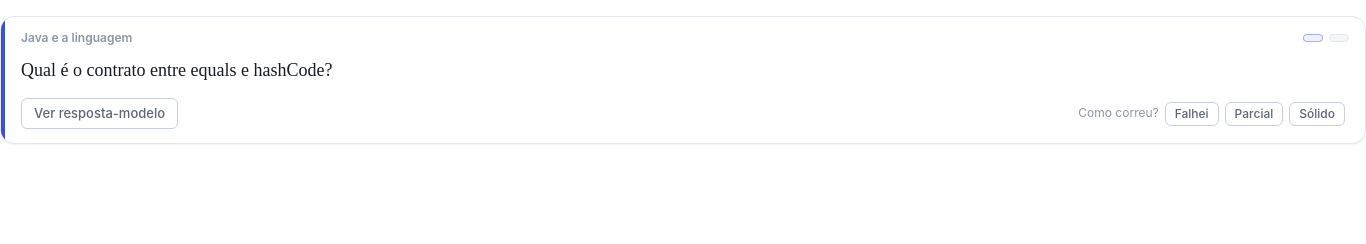
Test: QuestionCard › só mostra a resposta depois de revelar
Expected: the text "Resposta secreta" is not shown
Click the button "Ver resposta-modelo": (100,114) [21,98,178,129]
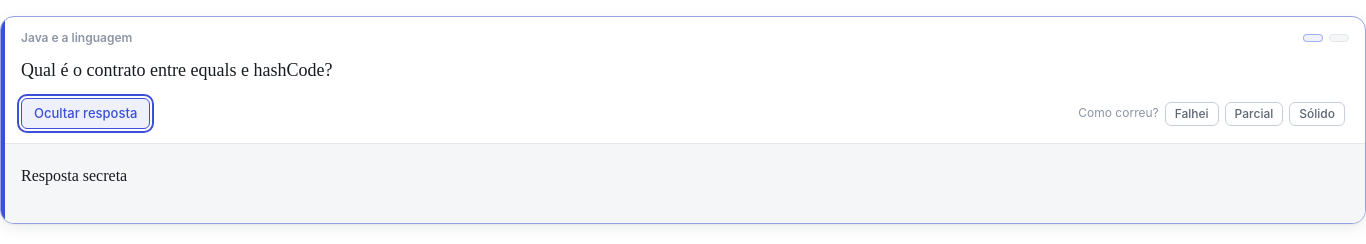
Expected: the text "Resposta secreta" is shown, [21,167,127,184]
Expected: the button "Ocultar resposta" is expanded, [21,98,150,129]
